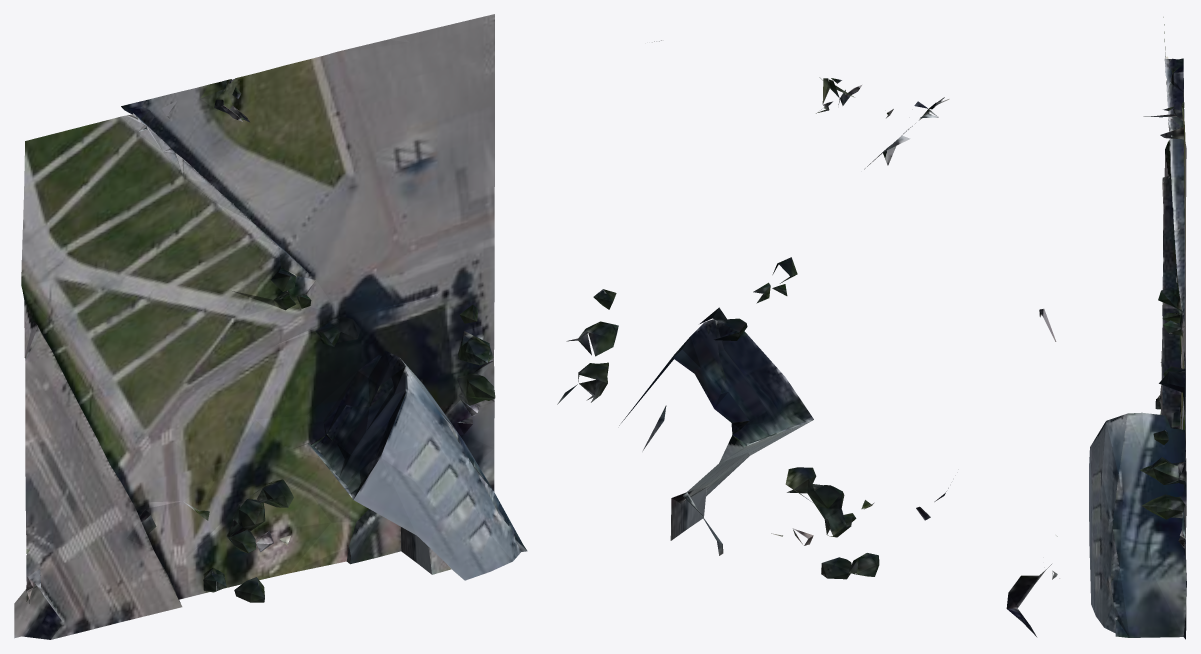
The model's file is Tile_+032_+022_L17_0001.glb.
3 views of the same model, side by side, from view 1: azimuth 30°, elevation 25°; view 2: azimuth 150°, elevation 25°; view 3: azimuth 270°, elevation 25° (orthographic). The views are drawn at different scales.
Size of the model in its own units: 126 by 126 by 26.19.
Materials: 1 (1 with a texture image).
